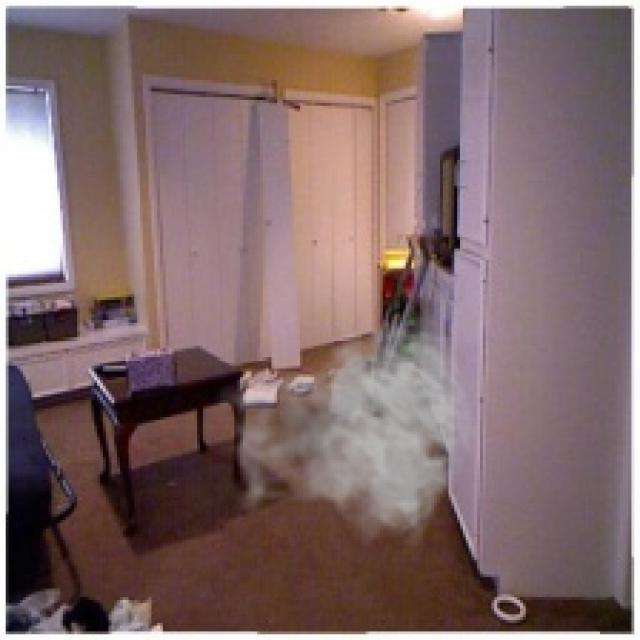smoke: (214, 312, 480, 554)
